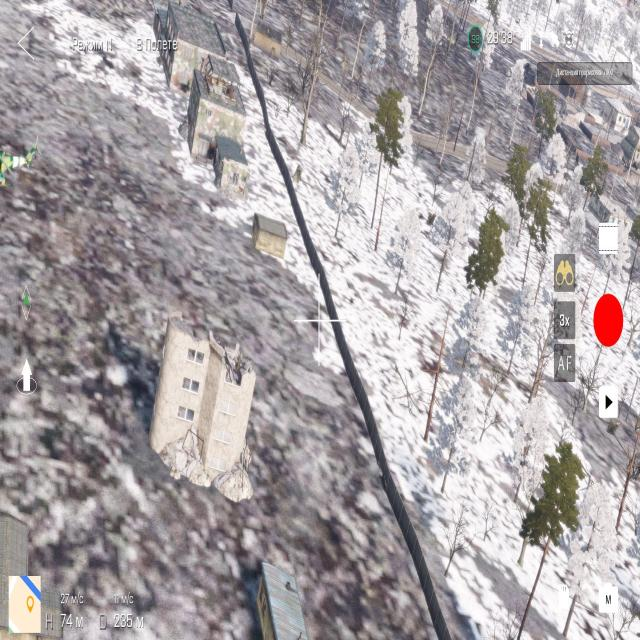fortification: (150, 295, 261, 515), (0, 501, 84, 640), (188, 51, 255, 198), (147, 0, 230, 103), (246, 540, 311, 640), (252, 204, 292, 278), (250, 16, 288, 65)
vehicle: (0, 122, 47, 210)
